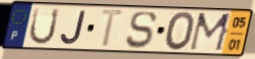J: (58, 10, 88, 47)
M: (187, 12, 235, 54)
O: (163, 11, 197, 53)
S: (125, 10, 159, 50)
T: (99, 8, 128, 50)
U: (27, 7, 62, 47)
